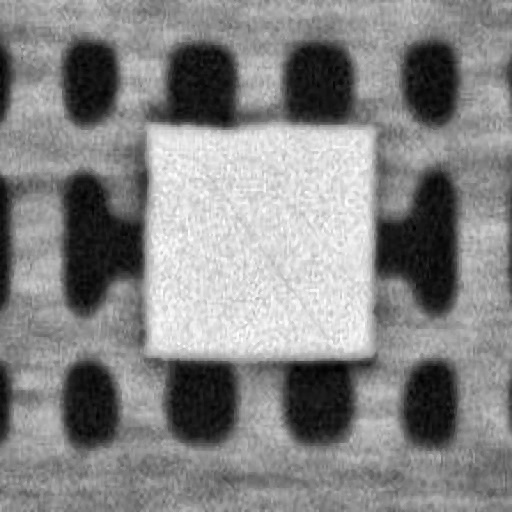DIE_CRACK: (308, 113, 488, 225)
